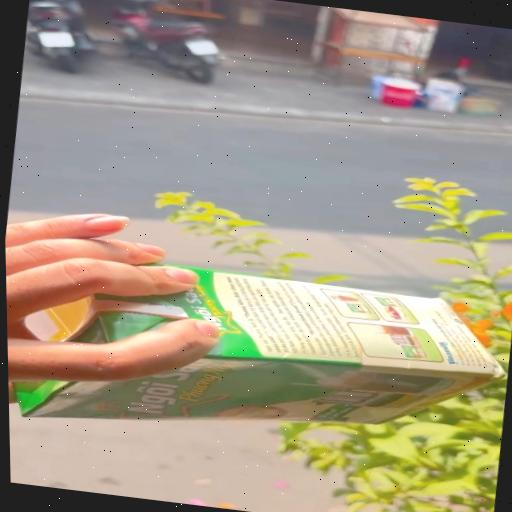ly_giay: (16, 265, 504, 424)
